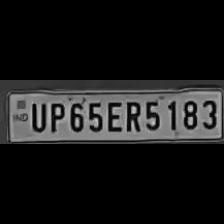1: (162, 97, 178, 130)
3: (200, 96, 218, 130)
5: (142, 98, 162, 132), (86, 98, 104, 132)
6: (65, 100, 84, 132)
8: (178, 97, 198, 131)
E: (104, 98, 122, 132)
P: (46, 99, 64, 133)
R: (122, 98, 142, 132)
U: (28, 100, 46, 132)
